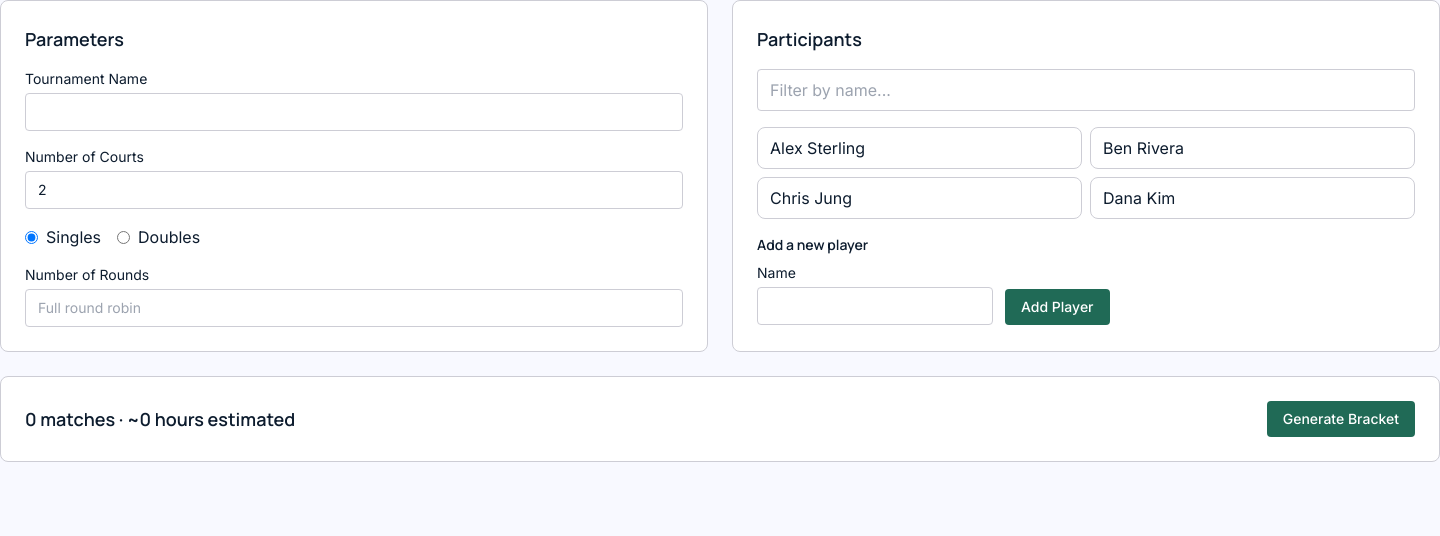
Scenario: RoundRobinSetupForm › shows the Hybrid team mode option for doubles format
Click the radio button labelled "Doubles" at (124, 237), box [117,230,130,244]
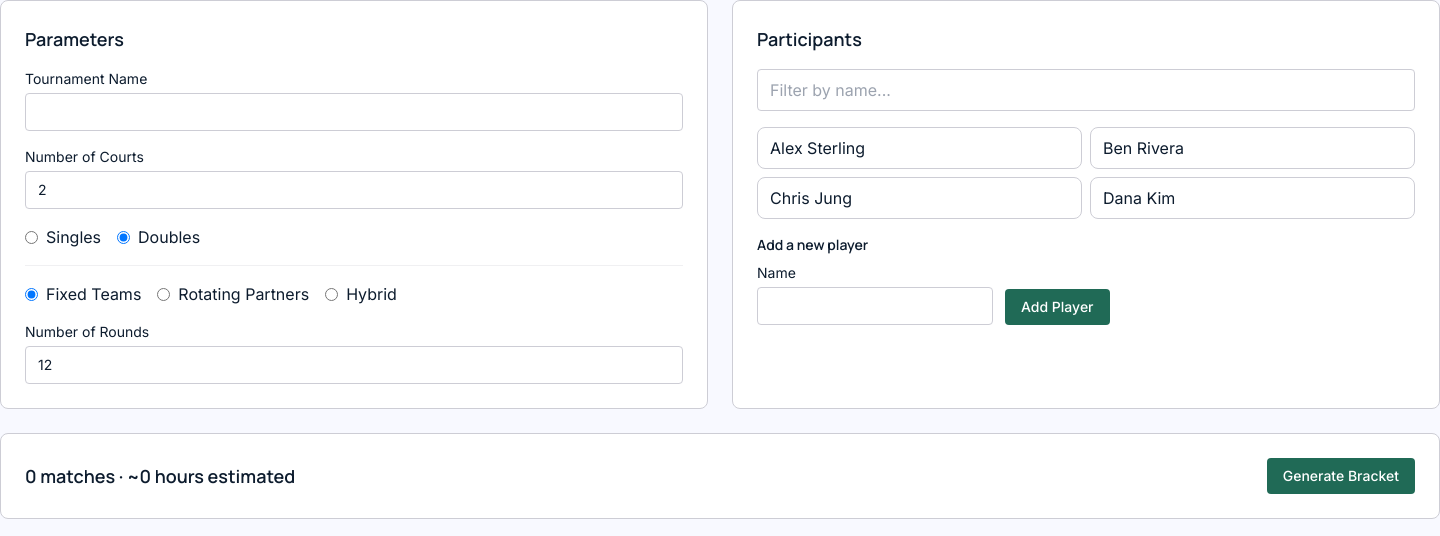
Result: the radio button labelled "Hybrid" is shown at [325,288,338,300]
